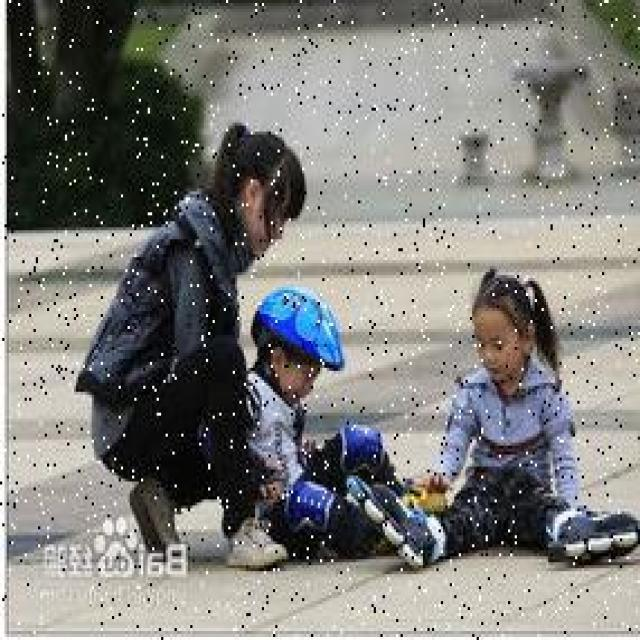fall: (394, 281, 626, 574), (252, 281, 388, 544)
